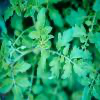Tomato leaf: (56, 27, 72, 52), (48, 55, 61, 81), (73, 59, 89, 78), (62, 58, 71, 83), (70, 45, 85, 60), (36, 7, 44, 34), (39, 25, 54, 36), (40, 48, 47, 69), (28, 31, 40, 39)
